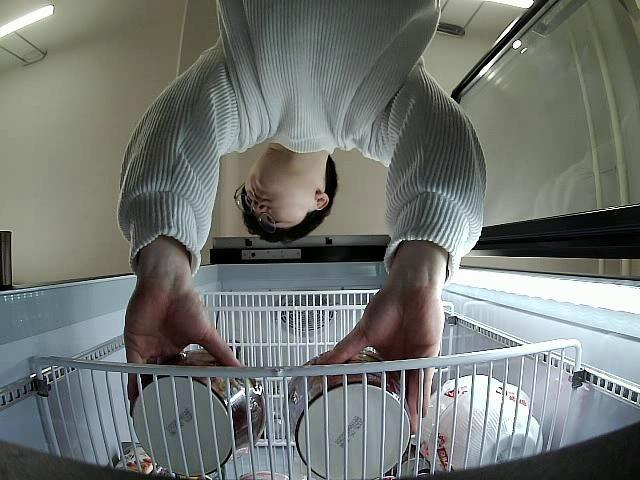05_nuguri_L: (132, 350, 268, 474), (285, 350, 410, 480)
